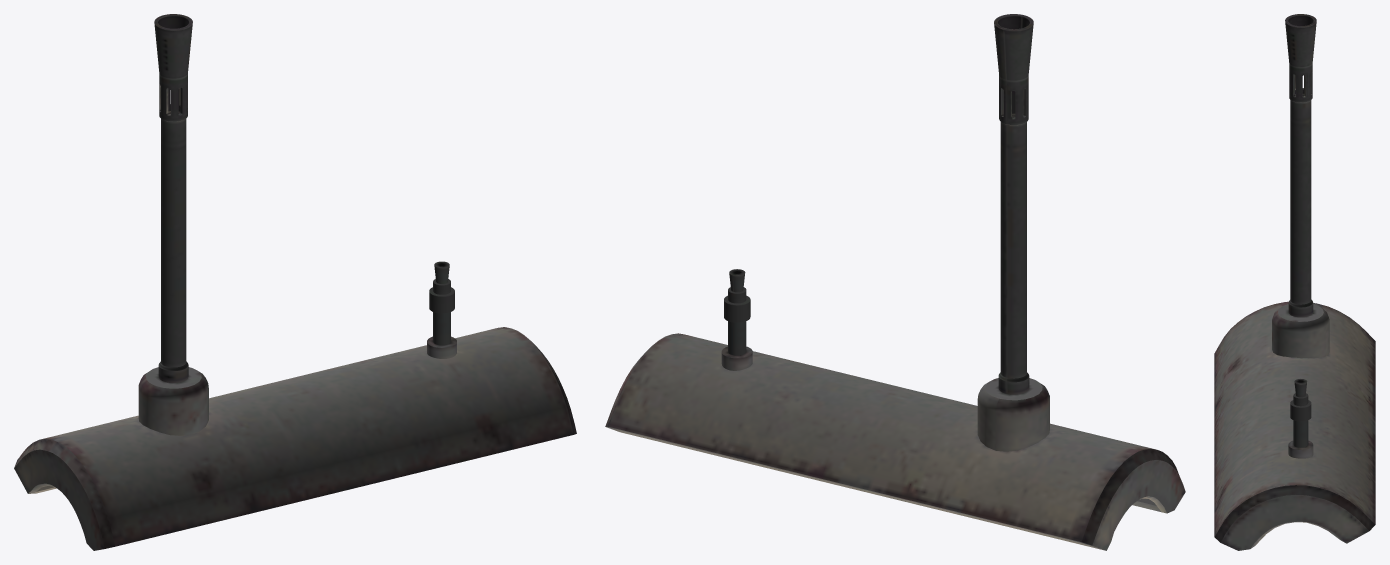
File: Gun_01.glb
3 views of the same model, side by side, from view 1: azimuth 30°, elevation 25°; view 2: azimuth 150°, elevation 25°; view 3: azimuth 270°, elevation 25° (orthographic). The views are drawn at different scales.
Visible parts, largest first — view 1: set_0_group_0; view 2: set_0_group_0; view 3: set_0_group_0.
Part boxes in pixels (left/top/right/bottom): set_0_group_0: left=14, top=14, right=576, bottom=550; set_0_group_0: left=605, top=14, right=1185, bottom=550; set_0_group_0: left=1214, top=14, right=1375, bottom=550.
Size of the model in its own units: 1.01 by 0.9613 by 0.3614.
Materials: 1 (1 with a texture image).
